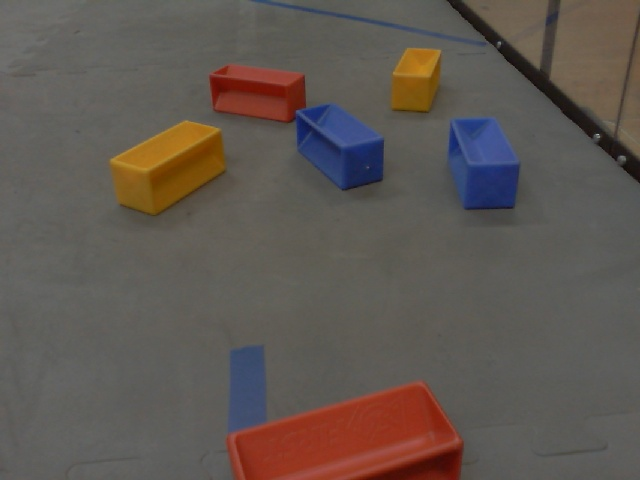BlueSample: (290, 97, 390, 196), (442, 111, 522, 215)
RedSample: (223, 379, 464, 480), (205, 57, 310, 124)
YellowSample: (107, 117, 230, 218), (388, 47, 443, 115)
